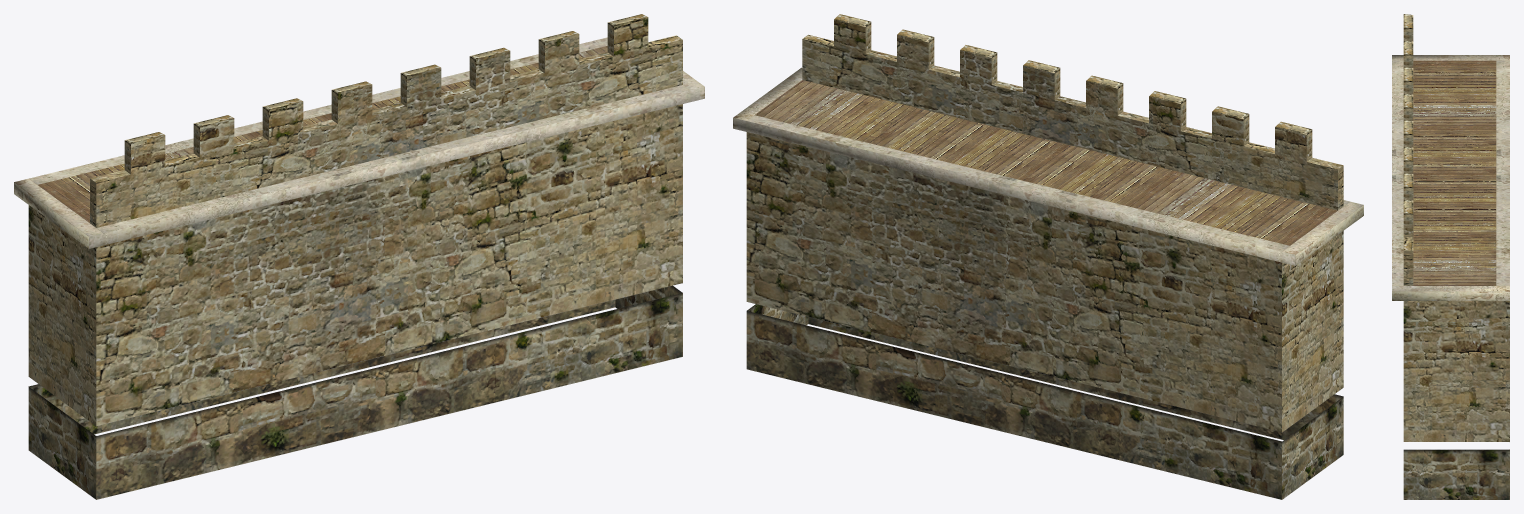
File: hele_wall_med.dae
3 renders of one model, left to right at view 1: azimuth 30°, elevation 25°; view 2: azimuth 150°, elevation 25°; view 3: azimuth 270°, elevation 25°, orthographic. The views are drawn at different scales.
Visible parts, largest first — view 1: default03-Pivot; view 2: default03-Pivot; view 3: default03-Pivot.
Part boxes in pixels (bbox=[...]): default03-Pivot: bbox=[14, 14, 704, 499]; default03-Pivot: bbox=[733, 14, 1363, 499]; default03-Pivot: bbox=[1392, 14, 1509, 499].
Size of the model in its own units: 25.01 by 5.27 by 13.51.
